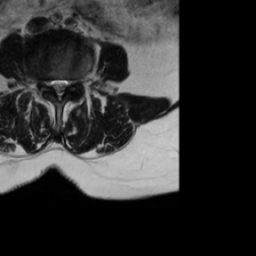CCS_normal: (56, 72, 63, 106)
LFS_severe_stenosis: (70, 73, 77, 91)
LLS_stenosis: (63, 73, 69, 93)
RFS_severe_stenosis: (41, 72, 49, 91)
RLS_stenosis: (49, 72, 57, 91)
